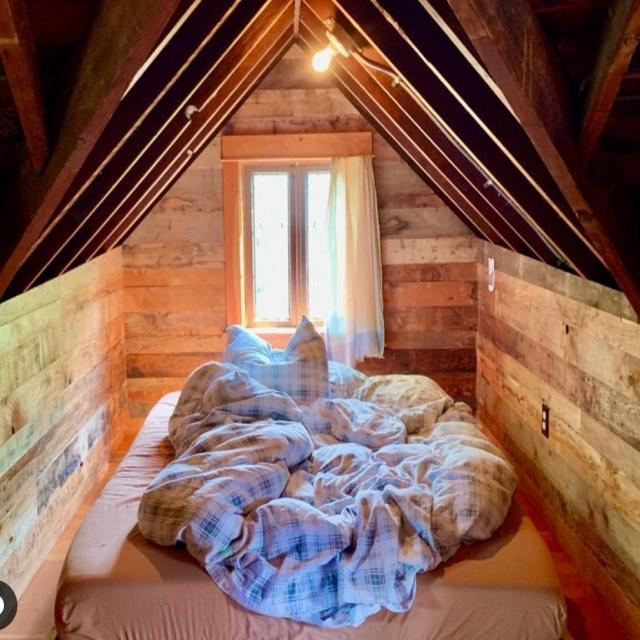bed: (97, 322, 530, 616)
